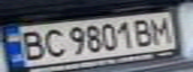0: (100, 20, 121, 52)
1: (115, 19, 136, 49)
8: (81, 21, 103, 54)
9: (63, 24, 87, 56)
B: (15, 28, 48, 62), (130, 16, 157, 47)
C: (39, 26, 69, 60)
M: (145, 15, 175, 44)
